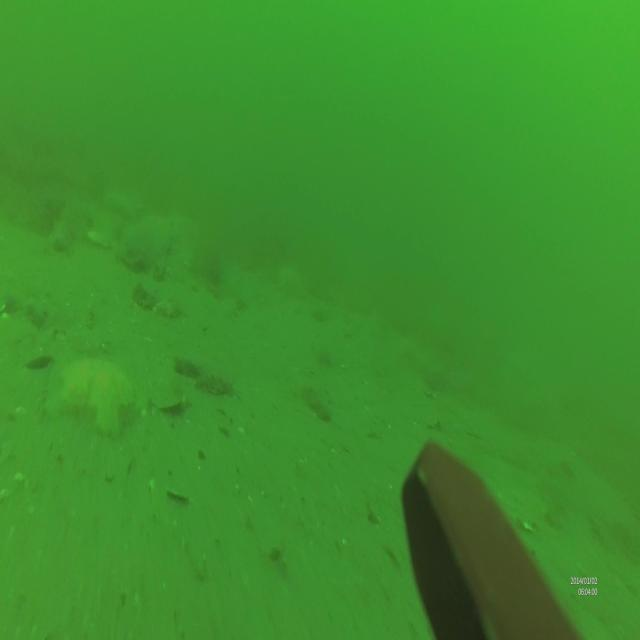starfish: (63, 347, 145, 441)
